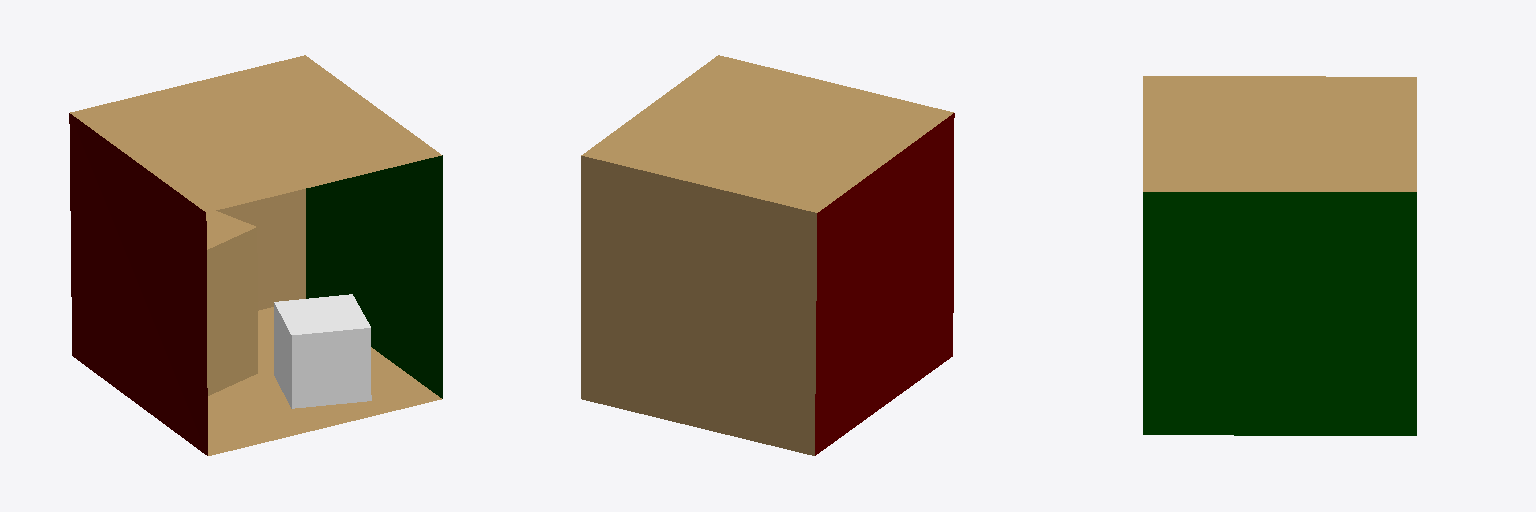
File: cornell-box.obj
3 renders of one model, left to right at view 1: azimuth 30°, elevation 25°; view 2: azimuth 150°, elevation 25°; view 3: azimuth 270°, elevation 25°, orthographic.
Parts seen in each view (by area): view 1: left_wall, ceiling, right_wall, floor, short_box, tall_box, back_wall; view 2: back_wall, left_wall, ceiling; view 3: right_wall, ceiling.
Part boxes in pixels (x1,y1,x2,y2): left_wall: (69, 113, 207, 455); ceiling: (70, 55, 441, 212); right_wall: (306, 155, 442, 398); floor: (208, 307, 441, 455); short_box: (274, 294, 371, 408); tall_box: (206, 211, 257, 395); back_wall: (216, 189, 305, 310); back_wall: (581, 156, 816, 455); left_wall: (815, 113, 954, 455); ceiling: (581, 55, 953, 212); right_wall: (1143, 192, 1416, 435); ceiling: (1143, 76, 1416, 191).
Size of the model in its own units: 5.56 by 5.49 by 5.6.